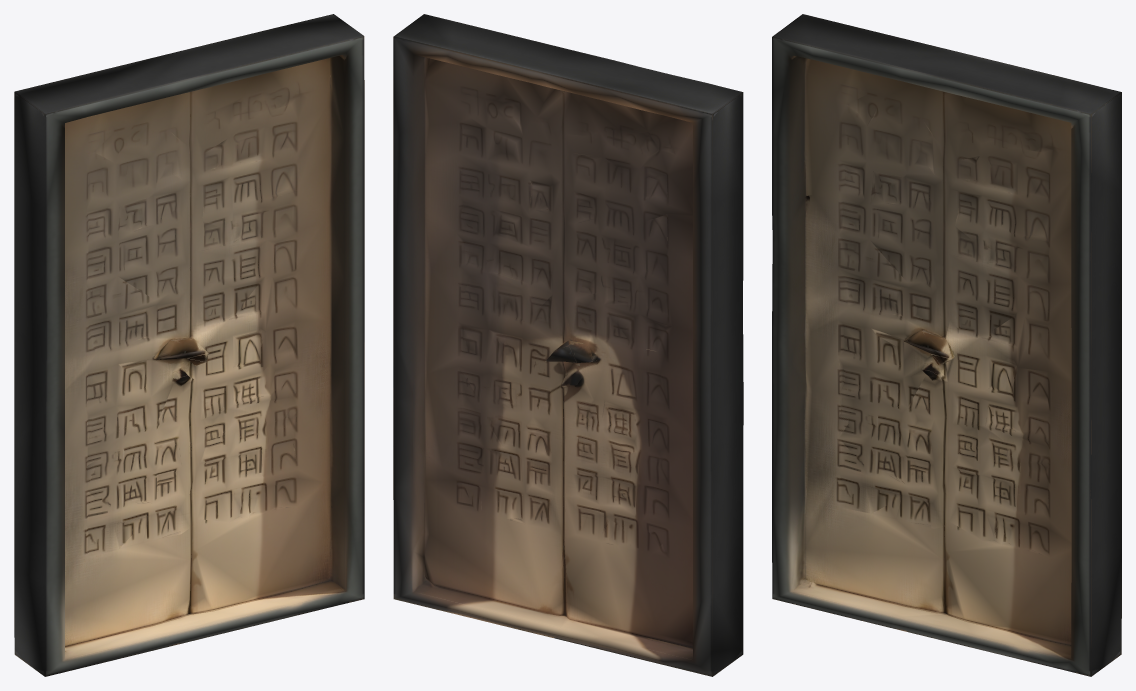
File: Stone Door 1.glb
3 views of the same model, side by side, from view 1: azimuth 30°, elevation 25°; view 2: azimuth 150°, elevation 25°; view 3: azimuth 330°, elevation 25° (orthographic).
Visible parts, largest first — view 1: Mesh_0; view 2: Mesh_0; view 3: Mesh_0.
Part boxes in pixels (x1,y1,x2,y2): Mesh_0: [14, 14, 364, 676]; Mesh_0: [393, 14, 743, 676]; Mesh_0: [772, 14, 1121, 676].
Bounding box in the file's own units: 1.19 × 2 × 0.1986.
1 material, 1 textured.
